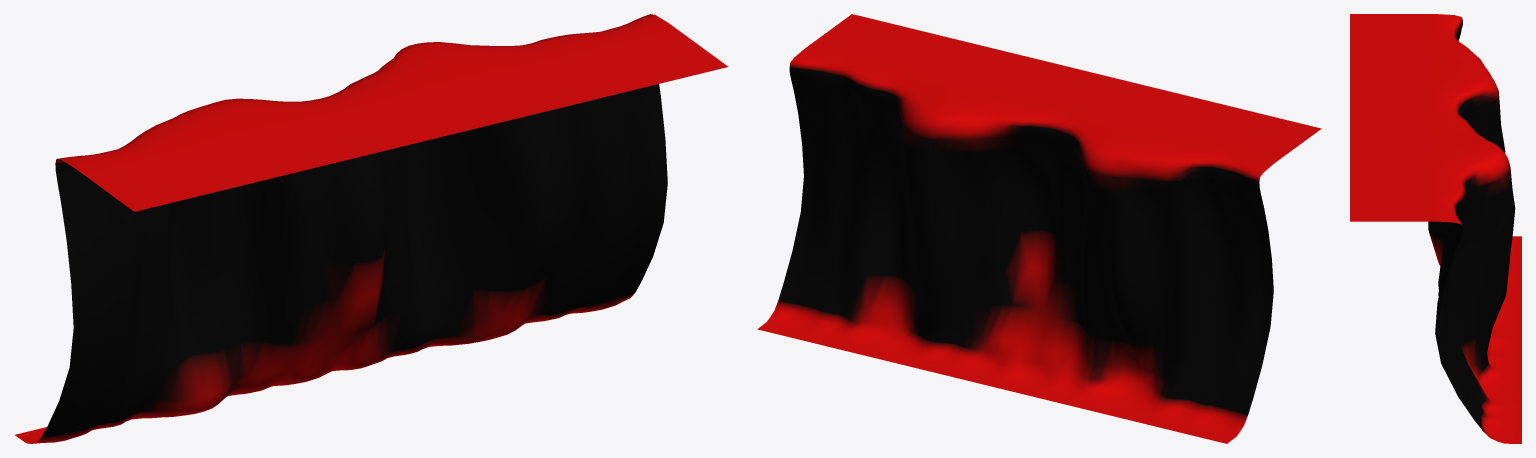
File: GroundCliff02A 2M Foreground.fbx
The picture shows the model from 3 angles, left to right: view 1: azimuth 30°, elevation 25°; view 2: azimuth 150°, elevation 25°; view 3: azimuth 270°, elevation 25°; orthographic projection. The views are drawn at different scales.
Visible parts, largest first — view 1: GroundCliff02A 2M Foreground; view 2: GroundCliff02A 2M Foreground; view 3: GroundCliff02A 2M Foreground.
Boxes of the visible parts, <box> form: GroundCliff02A 2M Foreground: <box>15,14,728,443</box>; GroundCliff02A 2M Foreground: <box>757,14,1321,443</box>; GroundCliff02A 2M Foreground: <box>1350,14,1521,443</box>.
Bounding box in the file's own units: 4 × 2 × 1.4.
